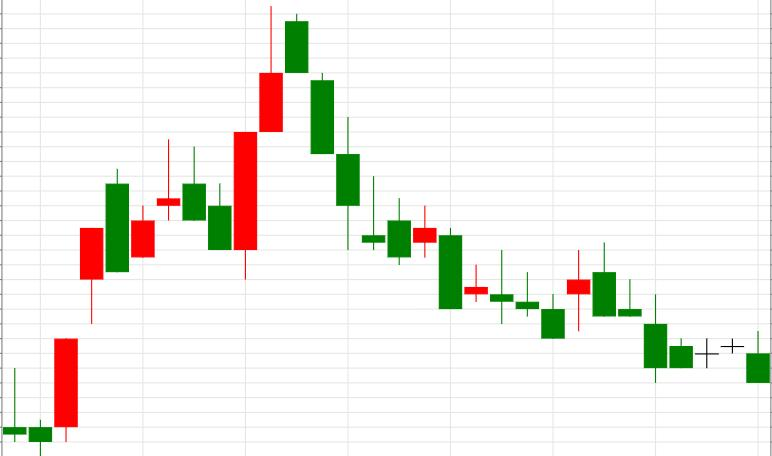three_black_crows_fall: (208, 5, 360, 279)
